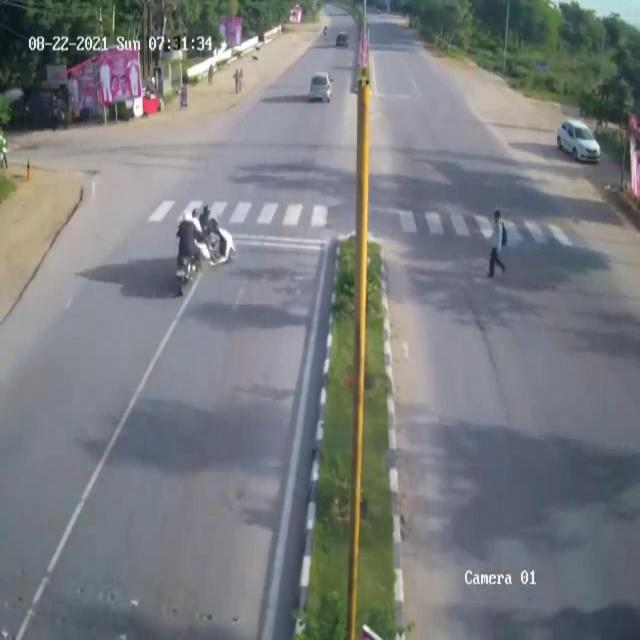accident: (165, 194, 240, 311)
